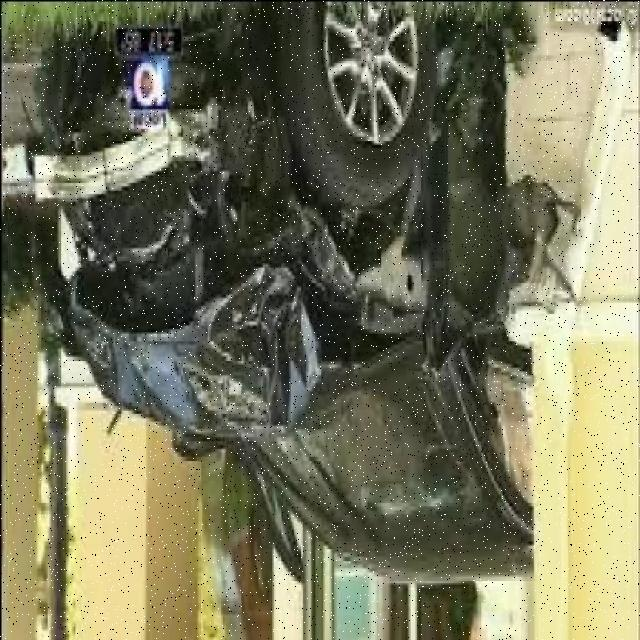damage: (42, 35, 499, 454)
